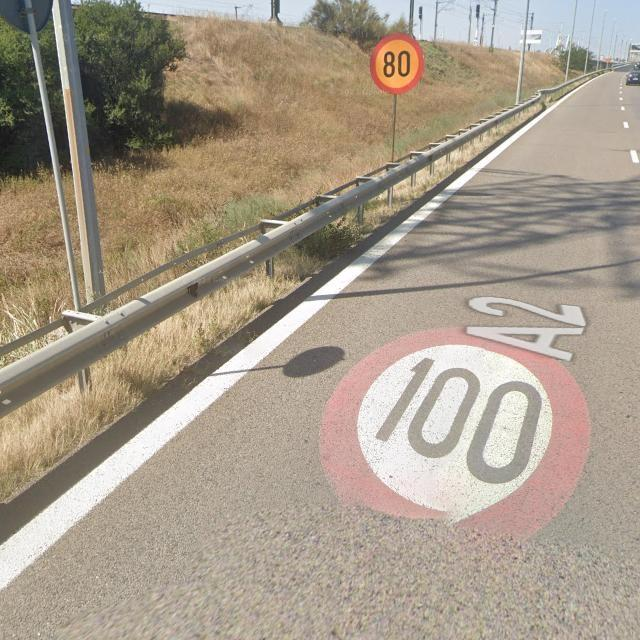forb_speed_over_100: (319, 326, 596, 546)
forb_speed_over_80: (370, 34, 425, 94)
